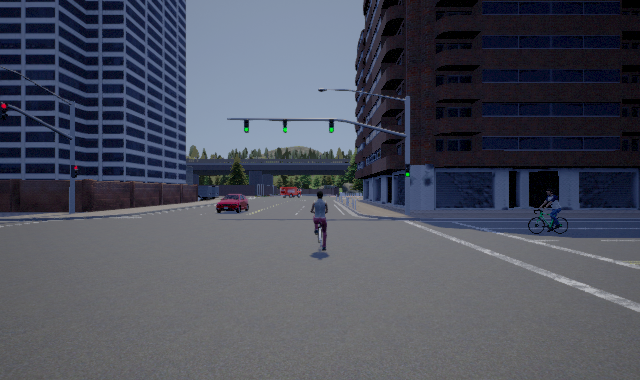bike: (529, 192, 568, 234), (309, 193, 332, 253)
traffic_light: (1, 102, 8, 120), (71, 165, 79, 178), (329, 119, 334, 133), (244, 119, 249, 133), (405, 164, 410, 177), (283, 119, 287, 133)
vehicle: (216, 194, 249, 213), (280, 184, 301, 199)
